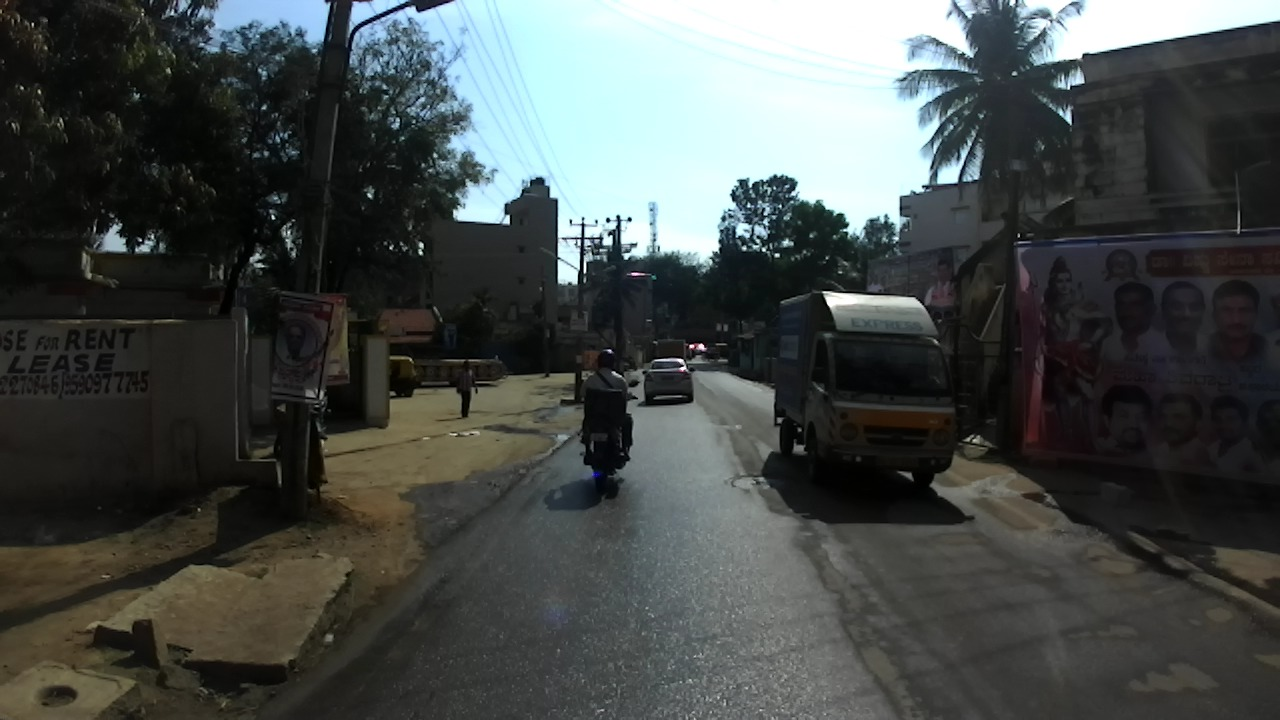autorickshaw: (390, 355, 418, 396)
car: (642, 358, 695, 404)
motorcycle: (580, 377, 642, 491)
person: (456, 360, 480, 418)
rider: (582, 349, 633, 463)
truck: (772, 292, 958, 483), (658, 338, 686, 365)
vehicle fallback: (704, 344, 720, 361), (715, 343, 730, 359), (690, 343, 706, 354), (684, 343, 694, 359)
